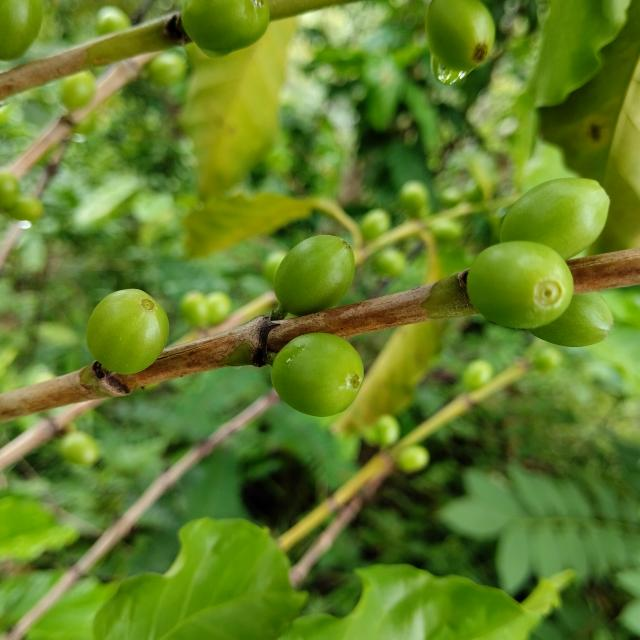green: (467, 241, 574, 329), (501, 177, 611, 259), (271, 333, 364, 417), (85, 289, 168, 375), (274, 235, 355, 316), (181, 0, 269, 57), (530, 292, 614, 347), (0, 0, 41, 59)
